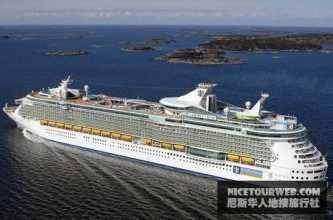youlun: (4, 72, 330, 186)
